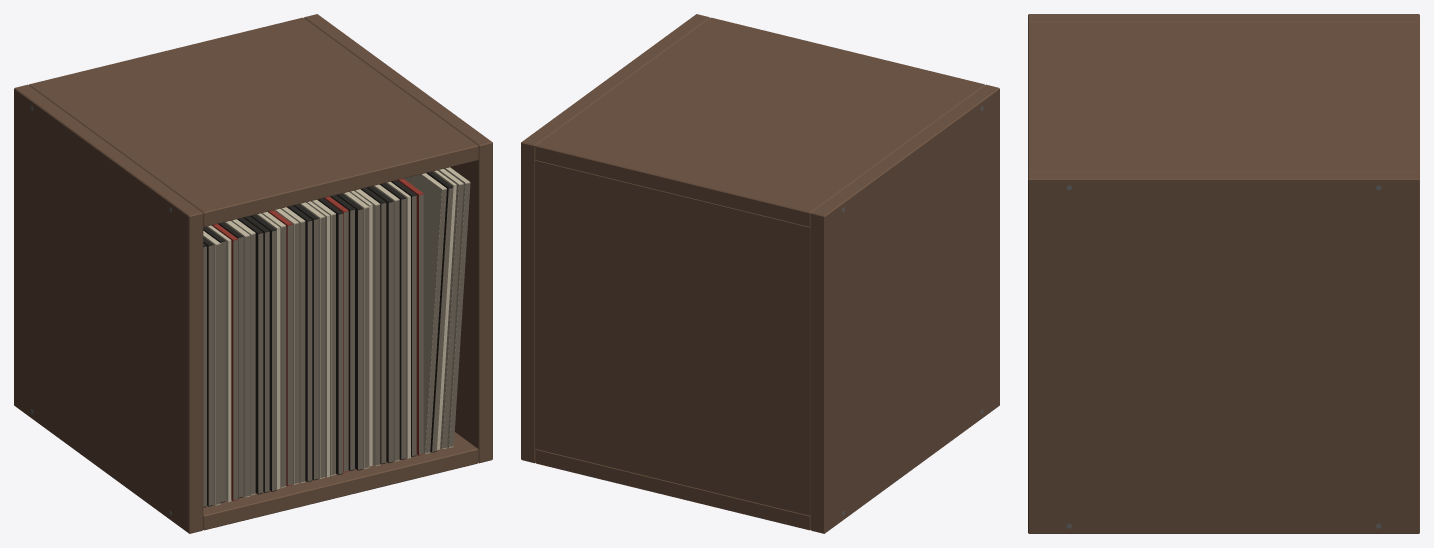
The model's file is record-cube-6ab1957c48f1.glb.
The picture shows the model from 3 angles, left to right: view 1: azimuth 30°, elevation 25°; view 2: azimuth 150°, elevation 25°; view 3: azimuth 270°, elevation 25°; orthographic projection. The views are drawn at different scales.
Parts seen in each view (by area): view 1: wood, cover-print, paper, cone-paper, accent-warm; view 2: wood; view 3: wood.
Part boxes in pixels (x1=…): wood: x1=14, y1=14, x2=492, y2=533; cover-print: x1=203, y1=183, x2=470, y2=506; paper: x1=203, y1=167, x2=470, y2=505; cone-paper: x1=203, y1=171, x2=453, y2=507; accent-warm: x1=211, y1=178, x2=423, y2=501; wood: x1=521, y1=14, x2=999, y2=533; wood: x1=1028, y1=14, x2=1419, y2=533.
Size of the model in its own units: 0.3806 by 0.38 by 0.38.
